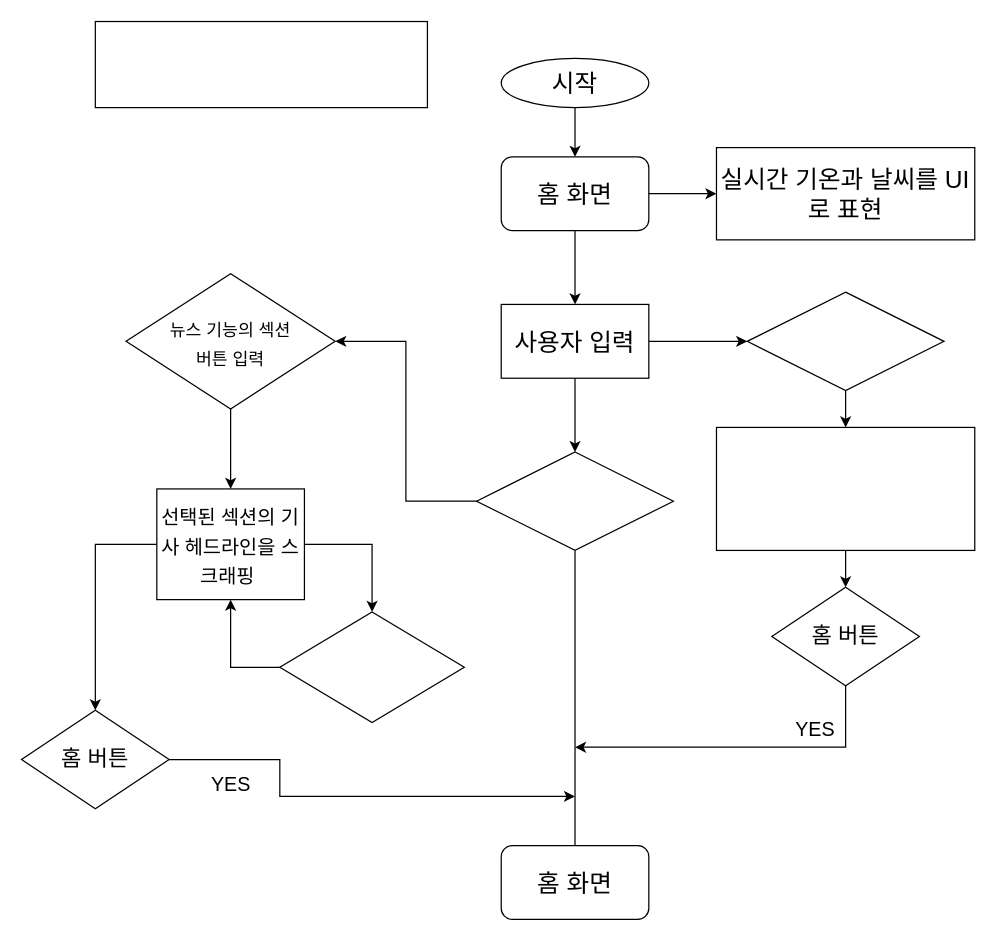
This 996x941 diagram has some shape labels left out. The shapes that lost their labels are listed below. From the top down, each one's box as (x1, y1, x2, y2) in pixels, then its label:
(94, 20, 427, 108): 날씨/뉴스 헤드라인 확인
(746, 291, 944, 391): 날씨 기능
(475, 451, 673, 550): 뉴스 기능
(715, 426, 975, 550): 포털의 날씨 정보 HTML/CSS를 스크래핑하여 출력
(279, 611, 464, 723): 다른 섹션 버튼
